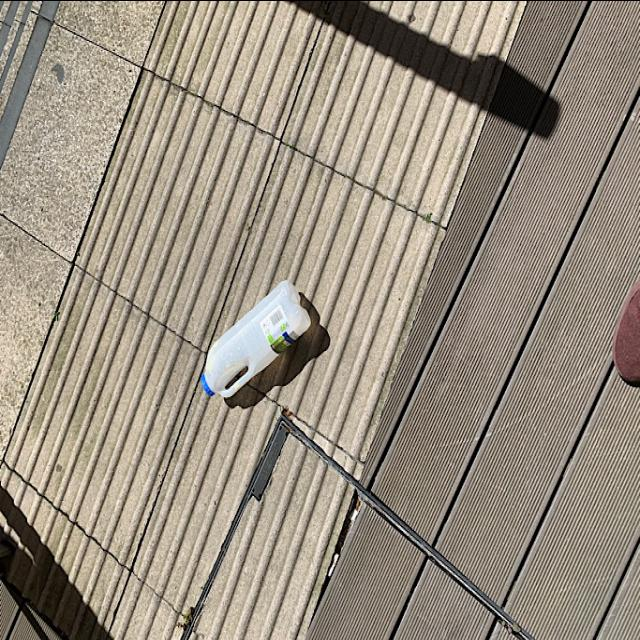HDPEM: (196, 279, 312, 405)
